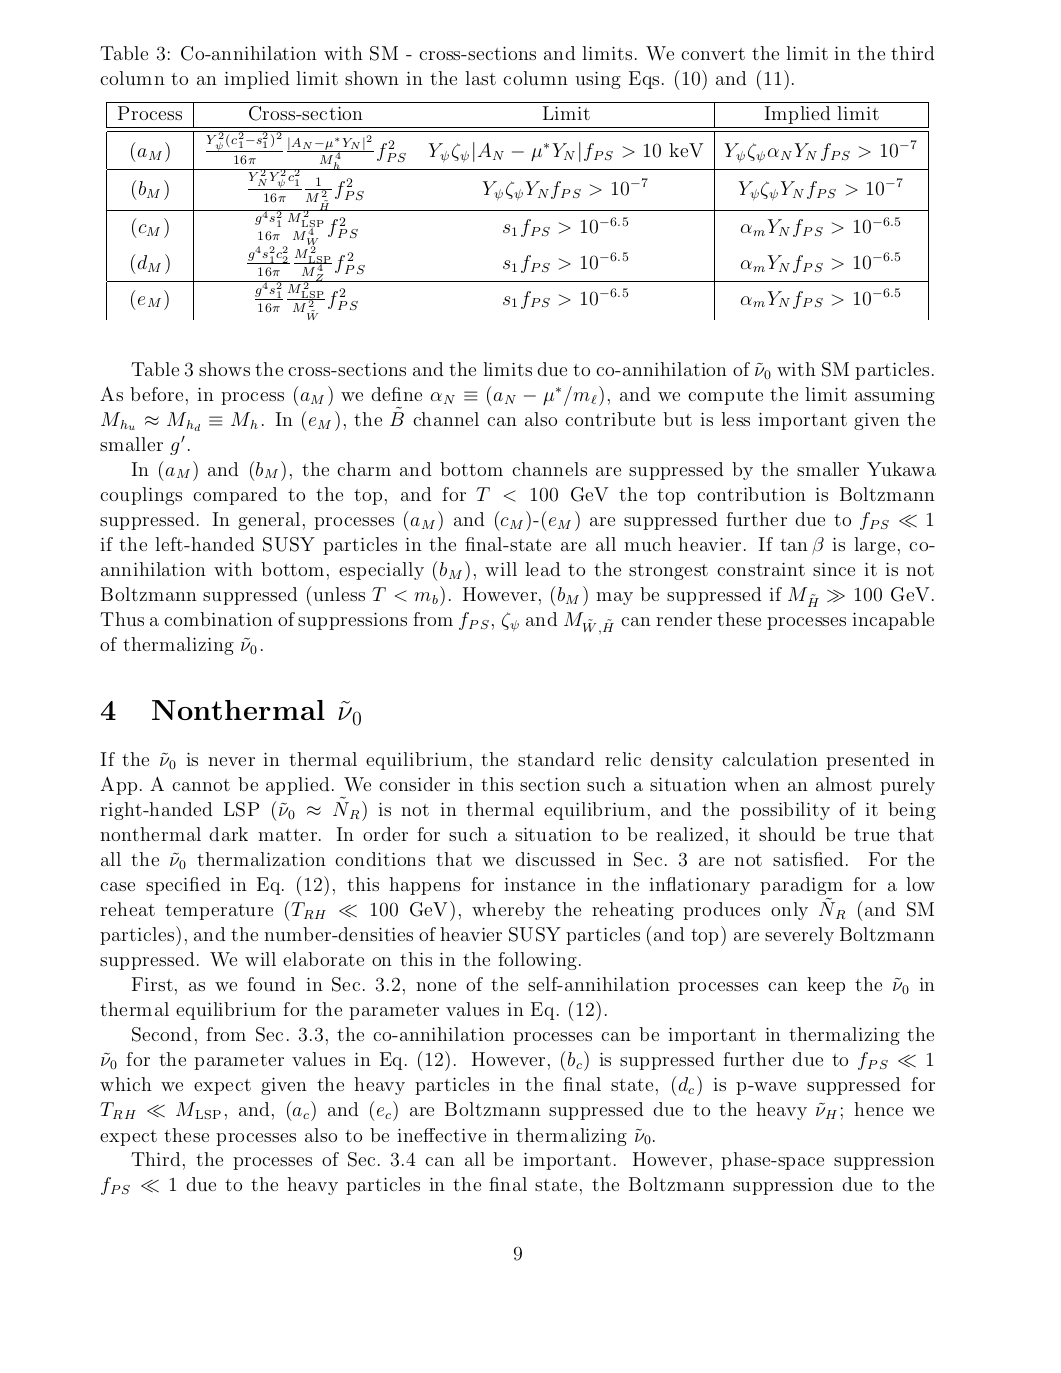Table: (106, 101, 928, 320)
